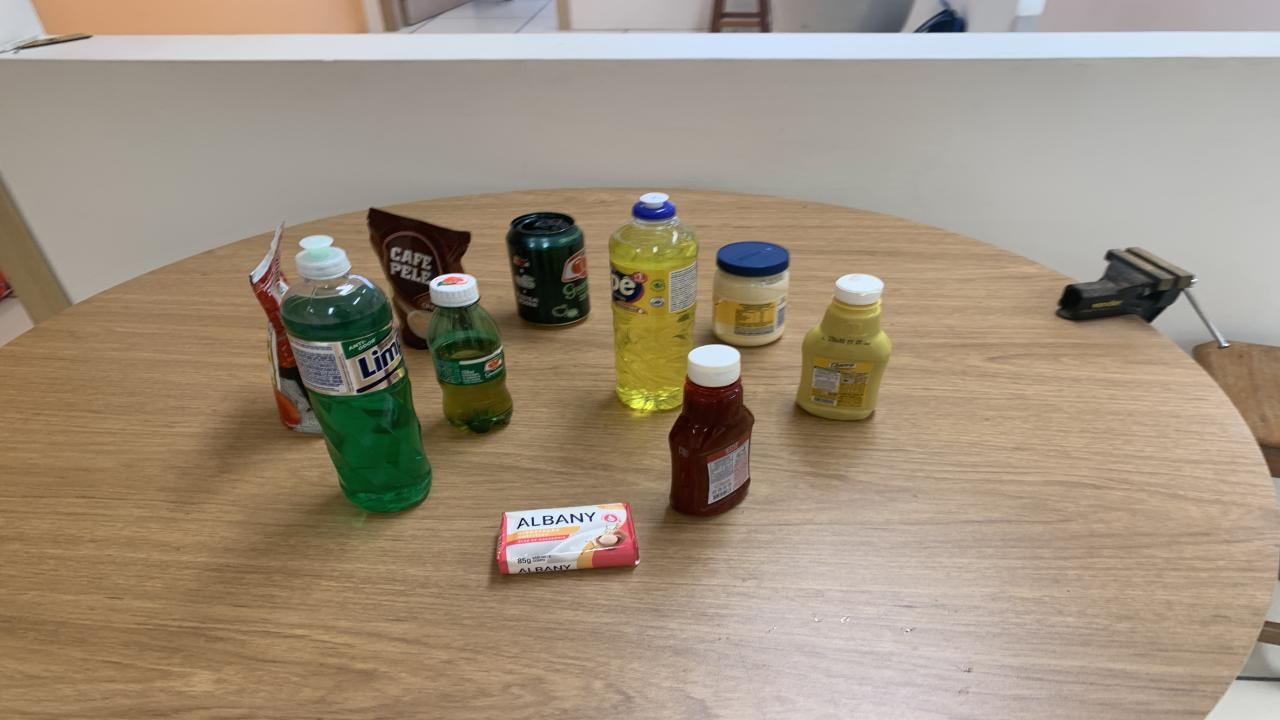Coffee-Pantry_Items: (368, 208, 470, 349)
Detergent-Cleanup_Items: (280, 236, 432, 512), (608, 193, 698, 411)
Guarana-Drinks: (428, 274, 512, 433)
Guarana_Can-Drinks: (505, 212, 590, 324)
Ketchup-Pantry_Items: (670, 345, 755, 516)
Mayonnaise-Pantry_Items: (712, 242, 790, 347)
Mustard-Pantry_Items: (798, 274, 890, 420)
Soap-Cleanup_Items: (495, 502, 640, 574)
Tomato_Sauce-Pantry_Items: (250, 225, 322, 433)
